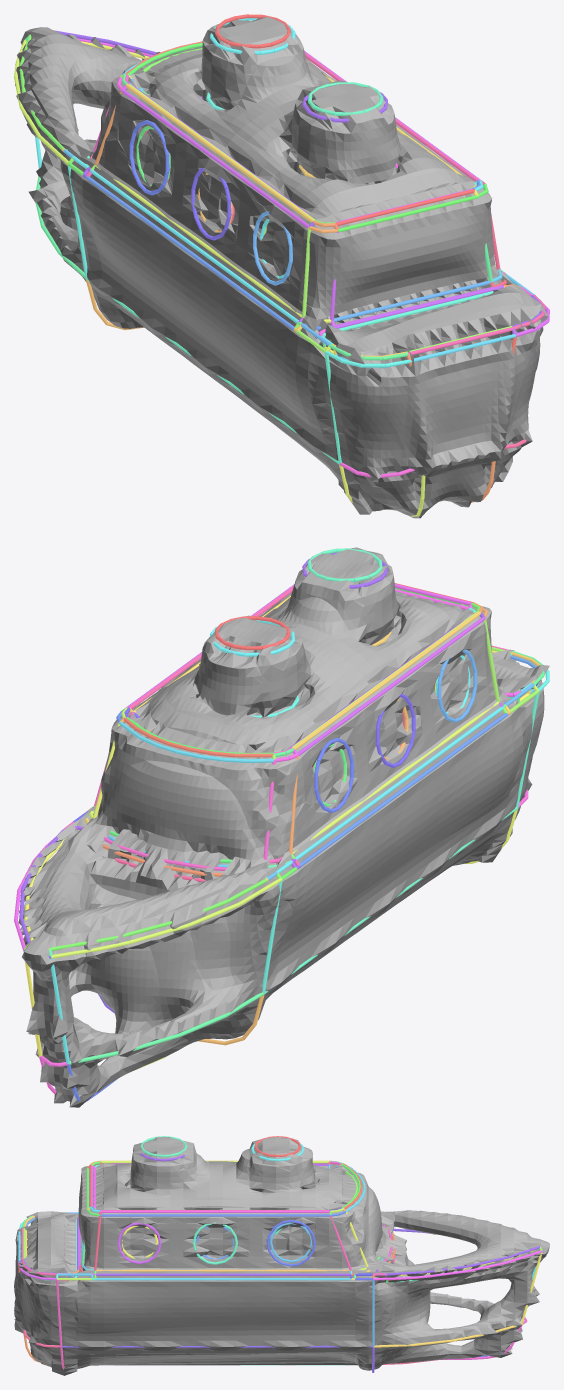
Rendered from onshape_boat.gltf.
3 views of the same model, one above another, from view 1: azimuth 30°, elevation 25°; view 2: azimuth 150°, elevation 25°; view 3: azimuth 270°, elevation 25° (orthographic). The views are drawn at different scales.
Size of the model in its own units: 0.2592 by 0.3976 by 0.8999.
